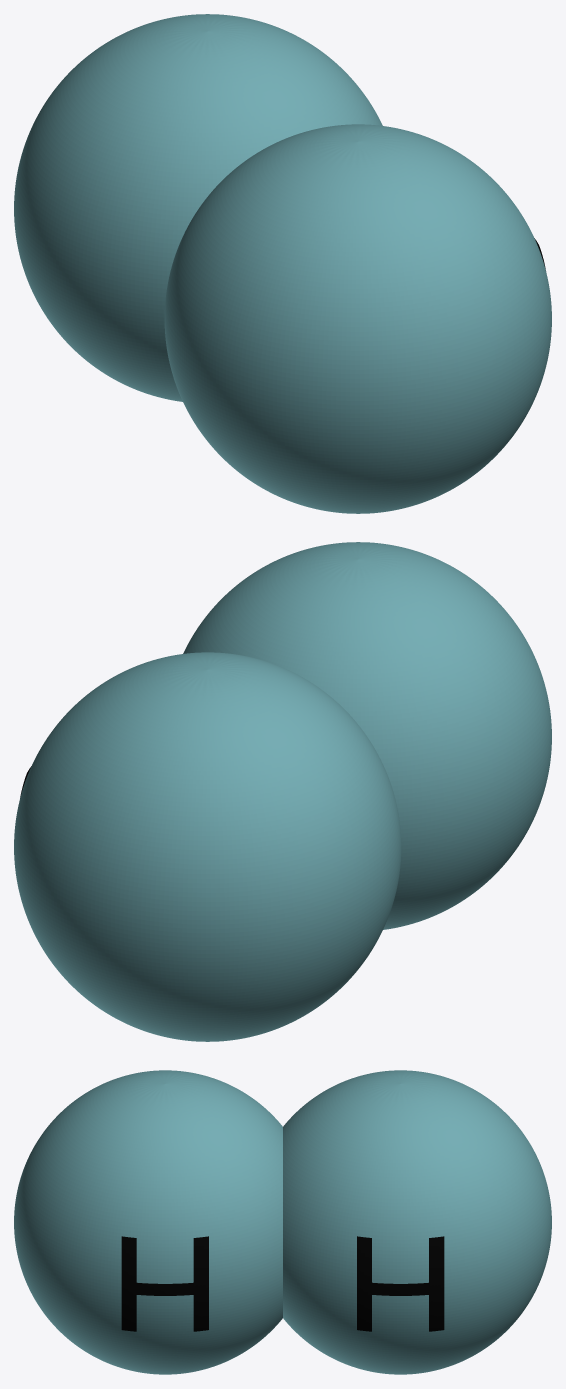
The model's file is Dihydrogen (H2) - Copy.fbx.
3 renders of one model, top to bottom at view 1: azimuth 30°, elevation 25°; view 2: azimuth 150°, elevation 25°; view 3: azimuth 270°, elevation 25°, orthographic. The views are drawn at different scales.
Parts seen in each view (by area): view 1: Sphere.028, Sphere.030; view 2: Sphere.030, Sphere.028; view 3: Sphere.028, Sphere.030, Text.028, Text.030.
Part boxes in pixels (x1,y1,x2,y2): Sphere.028: (164, 124, 551, 513); Sphere.030: (14, 14, 382, 401); Sphere.030: (14, 652, 401, 1041); Sphere.028: (183, 542, 551, 929); Sphere.028: (14, 1070, 282, 1374); Sphere.030: (283, 1070, 551, 1374); Text.028: (121, 1236, 208, 1331); Text.030: (357, 1236, 444, 1331).
Size of the model in its own units: 198 by 200 by 351.
